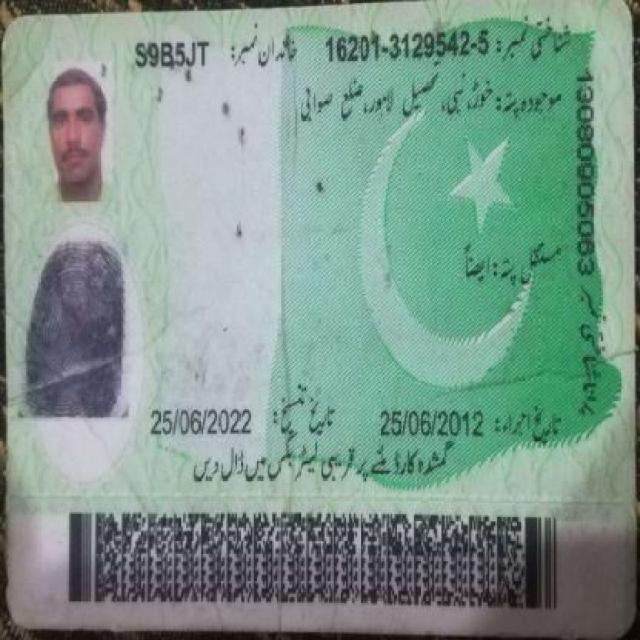Back: (6, 8, 625, 624)
